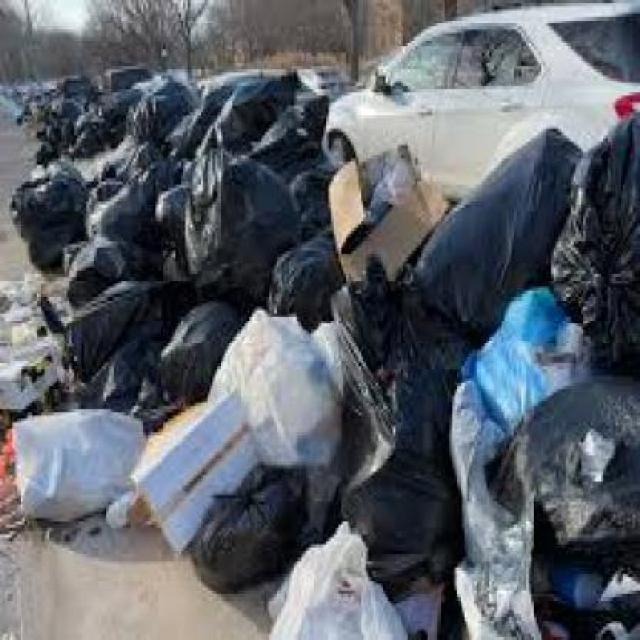garbage: (240, 185, 638, 638), (30, 66, 319, 574)
